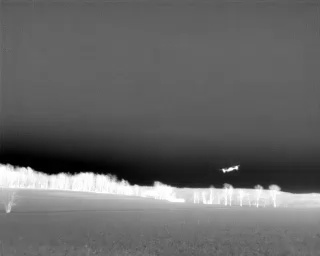DRONE: (218, 161, 243, 177)
